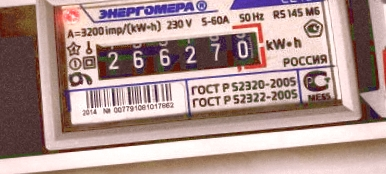0: (235, 38, 250, 59)
2: (105, 49, 121, 71), (182, 43, 198, 64)
6: (131, 47, 145, 69), (158, 46, 172, 67)
7: (208, 41, 222, 61)
screen: (85, 19, 273, 87)
